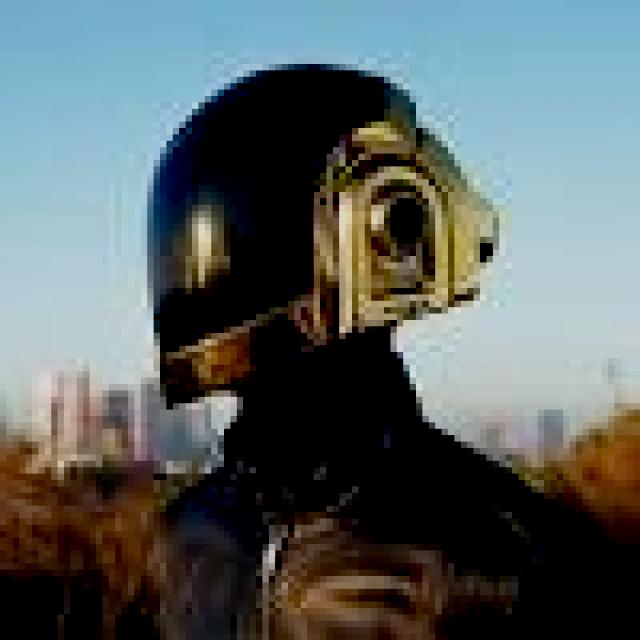helmet: (147, 64, 493, 404)
